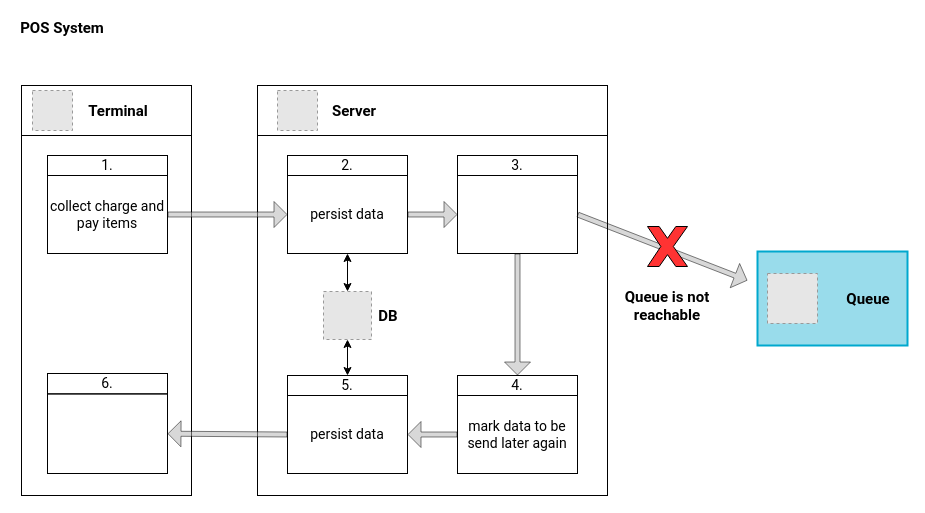
This 925x513 diagram has some shape labels left out. Grey dashed boxes stand in for pictures. The centre of each missing label's shape, as x and y in pixels:
print receipt with hint: "Security Mechanism outage": pixel 107 433
send sign request: pixel 517 214
